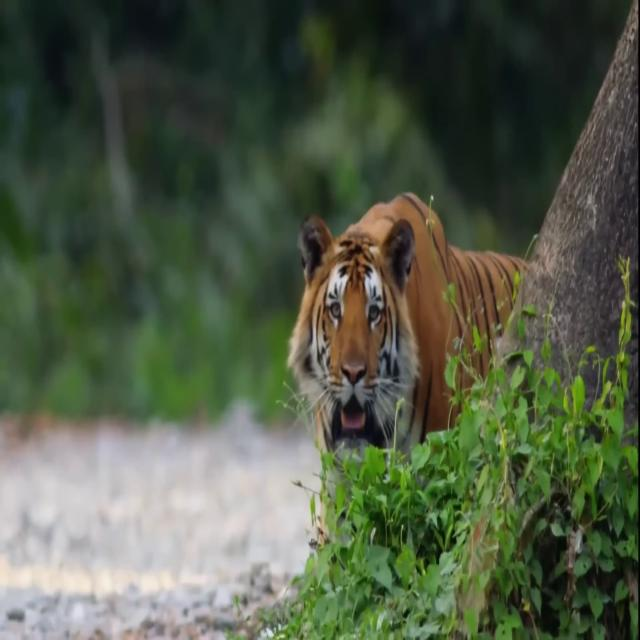tiger: (287, 191, 530, 476)
